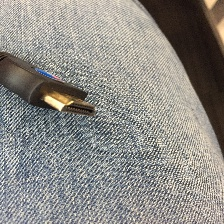hdmi_male: (7, 32, 108, 147)
